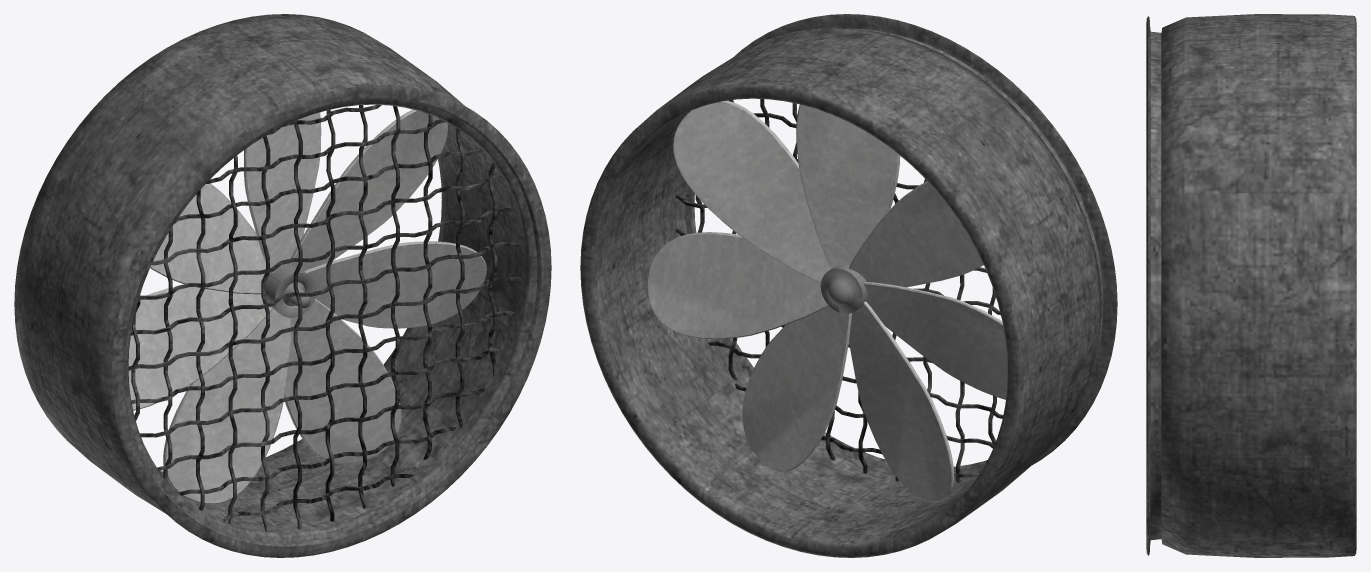
Rendered from Fan.fbx.
3 views of the same model, side by side, from view 1: azimuth 30°, elevation 25°; view 2: azimuth 150°, elevation 25°; view 3: azimuth 270°, elevation 25° (orthographic). The views are drawn at different scales.
Parts seen in each view (by area): view 1: Frames, Blades, Wires; view 2: Frames, Blades, Wires; view 3: Frames.
Part boxes in pixels (left/top/right/bottom): Frames: left=14, top=14, right=551, bottom=557; Blades: left=128, top=109, right=486, bottom=503; Wires: left=128, top=104, right=521, bottom=531; Frames: left=580, top=14, right=1117, bottom=557; Blades: left=647, top=100, right=1007, bottom=502; Wires: left=675, top=99, right=1003, bottom=482; Frames: left=1146, top=14, right=1356, bottom=557.
Bounding box in the file's own units: 259 × 259 × 100.
1 material, 1 textured.
